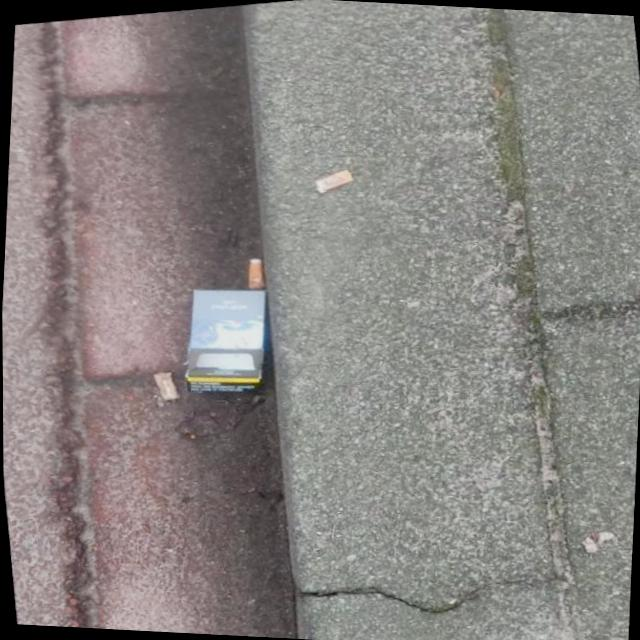Paper: (180, 286, 271, 402)
